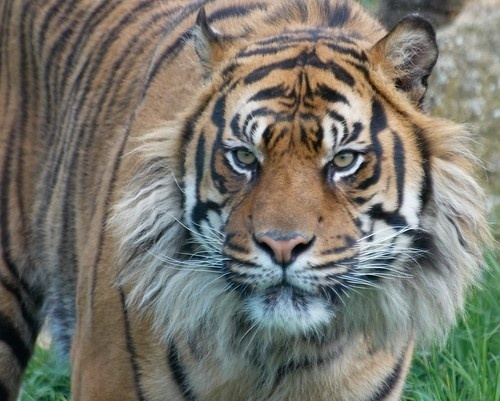tigre: (1, 1, 491, 400)
